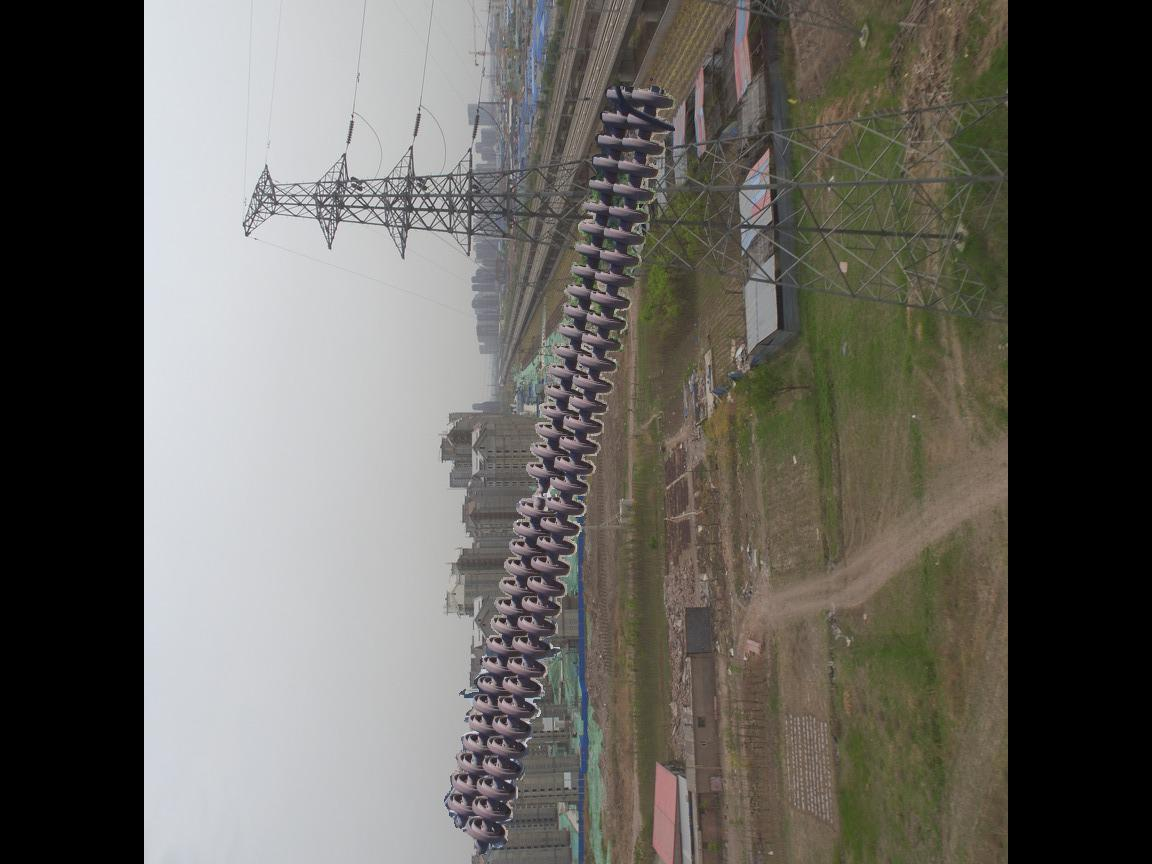insulator: (440, 77, 684, 852)
insulator_stringdrop: (511, 459, 562, 521)
